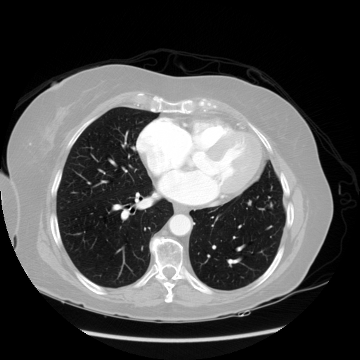nodule: (245, 199, 253, 207)
